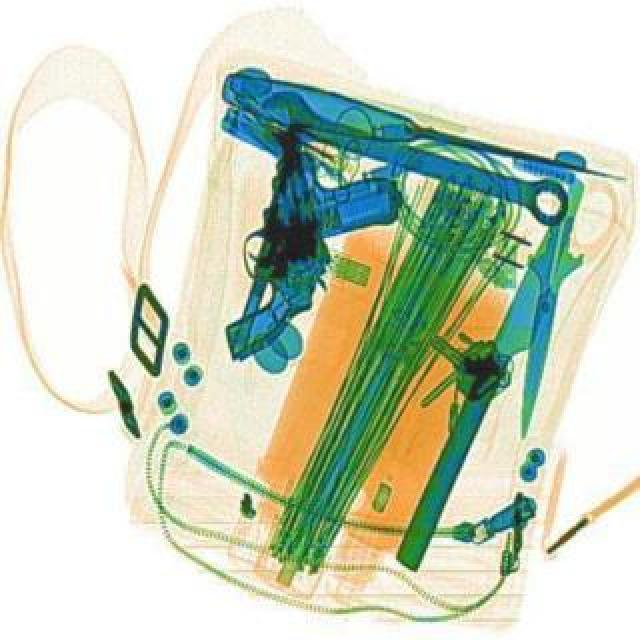gun: (210, 138, 414, 388), (174, 112, 348, 362)
knife: (388, 182, 598, 572), (206, 58, 636, 206)
pliers: (466, 160, 624, 446)
scissors: (250, 82, 578, 226)
